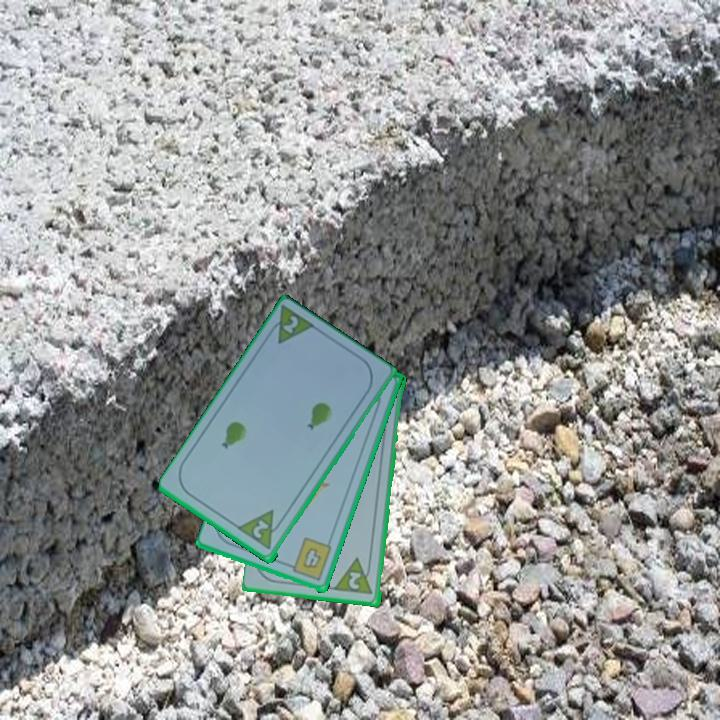2p: (263, 303, 319, 347), (235, 506, 287, 553), (333, 555, 376, 598)
4b: (283, 535, 335, 584)
